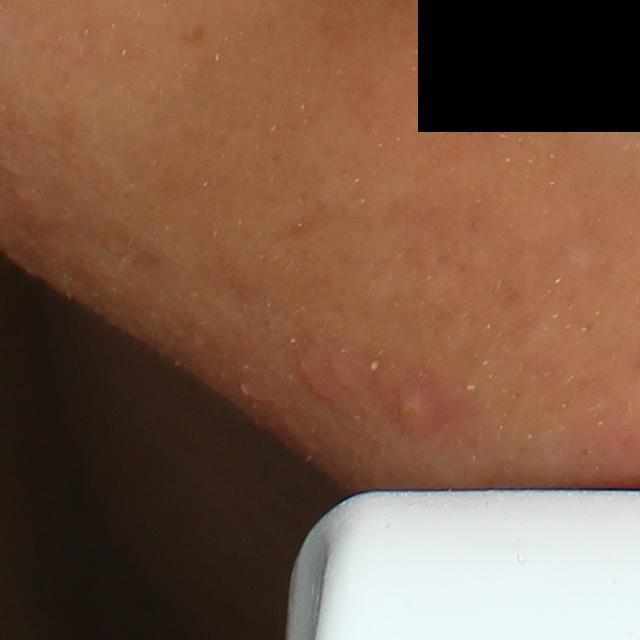pustule: (383, 385, 446, 435)
